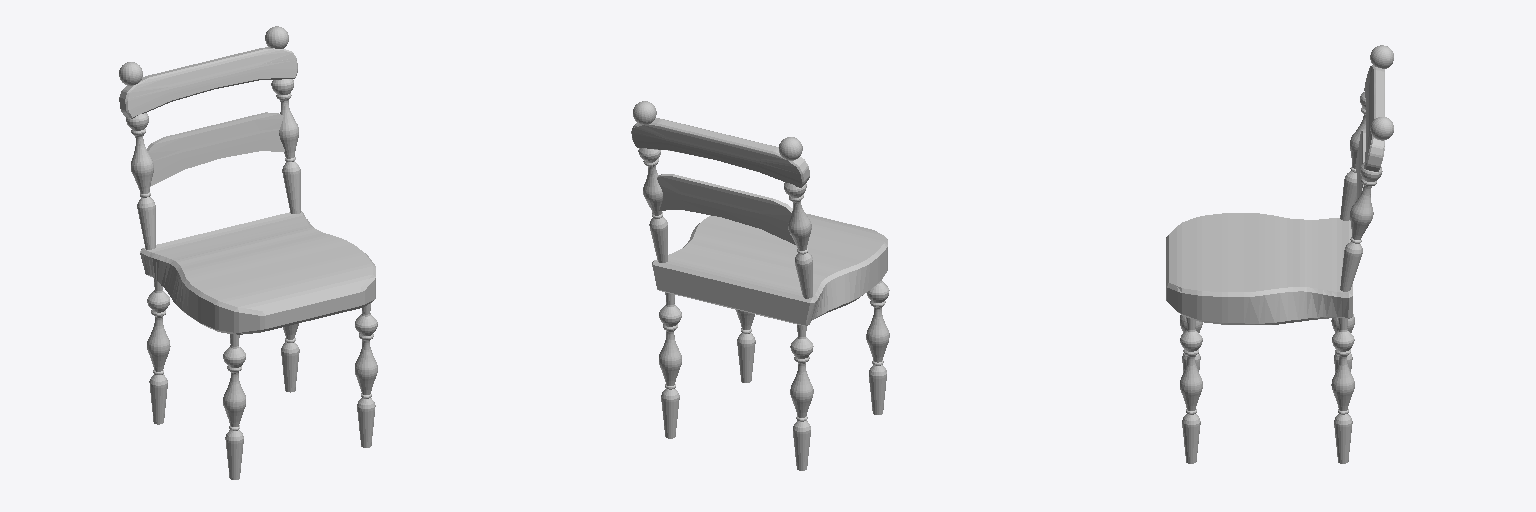
The model's file is Chair3_SubstancePaint.obj.
The picture shows the model from 3 angles: view 1: azimuth 30°, elevation 25°; view 2: azimuth 150°, elevation 25°; view 3: azimuth 270°, elevation 25°; orthographic projection.
Parts seen in each view (by area): view 1: pCylinder5; view 2: pCylinder5; view 3: pCylinder5.
Boxes of the visible parts, box(x1,y1,x2,y2) form: pCylinder5: box(119, 26, 377, 479); pCylinder5: box(631, 101, 889, 470); pCylinder5: box(1166, 45, 1393, 463).
Bounding box in the file's own units: 5.23 × 10.08 × 6.02.